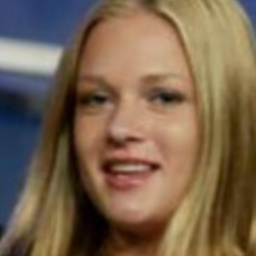Person: (16, 1, 256, 251)
